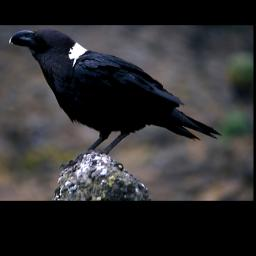Crow: (7, 29, 223, 171)
